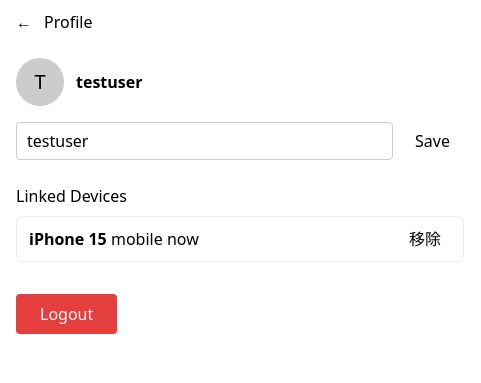
Test: Requirement 9.6: updateProfile failure preserves input › keeps username input value and shows error message when updateProfile throws
Note: Change the username
Replace the text in the field with placeholder "Username" with "newname". click: (205, 141)
box: [16,122,393,160]
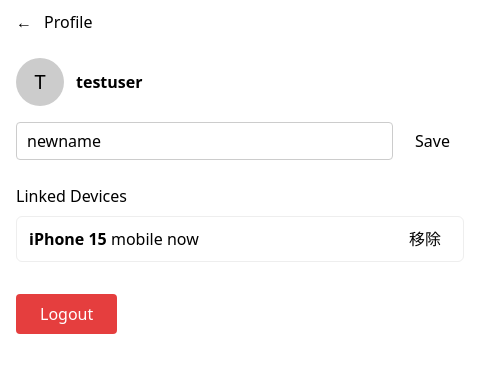
Note: Click Save
Click the button "Save". click: (433, 141)
box: [401,123,464,159]
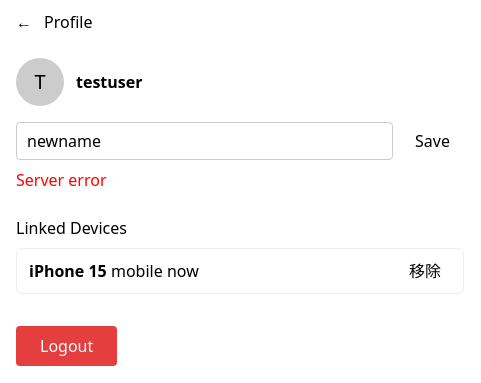
Expected: the text "Server error" is shown, [16,169,106,191]
